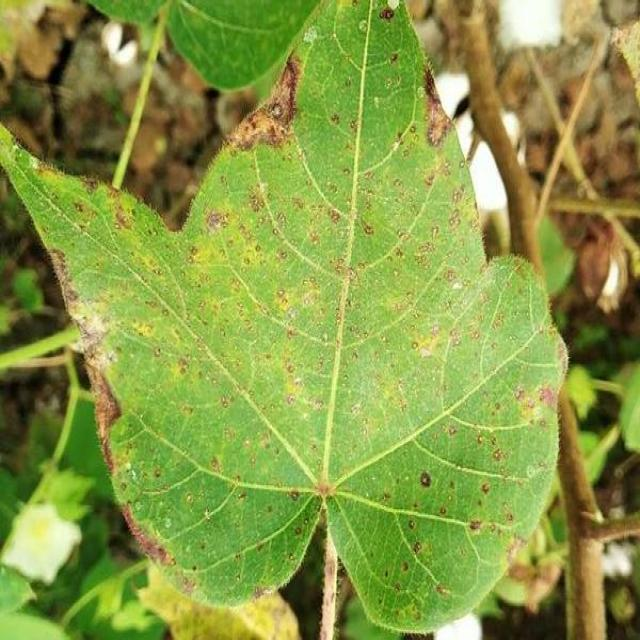Bacterial Blight: (196, 59, 415, 419)
